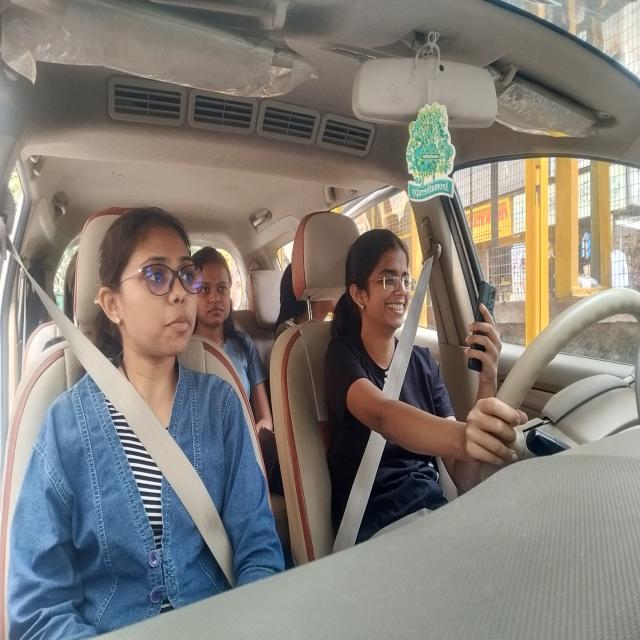mobile: (468, 268, 507, 394)
person: (96, 194, 209, 370), (338, 218, 419, 349), (186, 209, 241, 345)
